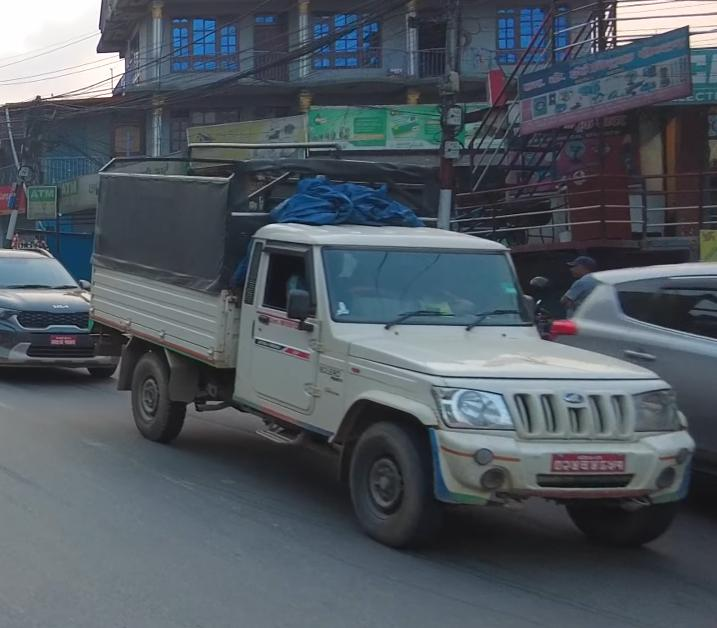car: (547, 237, 717, 476), (0, 226, 131, 397)
transport_vehicle: (86, 125, 689, 547)
